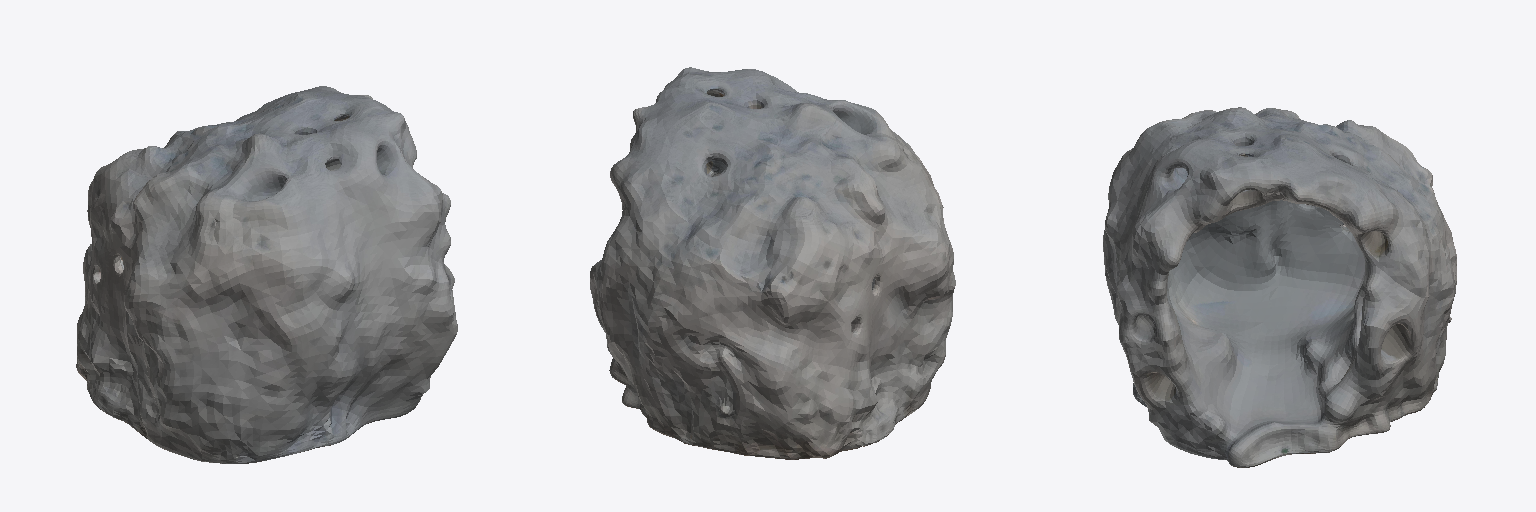
3 renders of one model, left to right at view 1: azimuth 30°, elevation 25°; view 2: azimuth 150°, elevation 25°; view 3: azimuth 270°, elevation 25°, orthographic.
Visible parts, largest first — view 1: tripo_node_29139e0b-6ec1-4ce6-b099-7c17c[number redacted]; view 2: tripo_node_29139e0b-6ec1-4ce6-b099-7c17c[number redacted]; view 3: tripo_node_29139e0b-6ec1-4ce6-b099-7c17c[number redacted].
Part boxes in pixels (x1,y1,x2,y2): tripo_node_29139e0b-6ec1-4ce6-b099-7c17c[number redacted]: (76,86,457,463); tripo_node_29139e0b-6ec1-4ce6-b099-7c17c[number redacted]: (590,67,955,459); tripo_node_29139e0b-6ec1-4ce6-b099-7c17c[number redacted]: (1103,107,1456,467).
Bounding box in the file's own units: 0.9951 × 0.8837 × 0.9963.
1 materials, 1 textured.